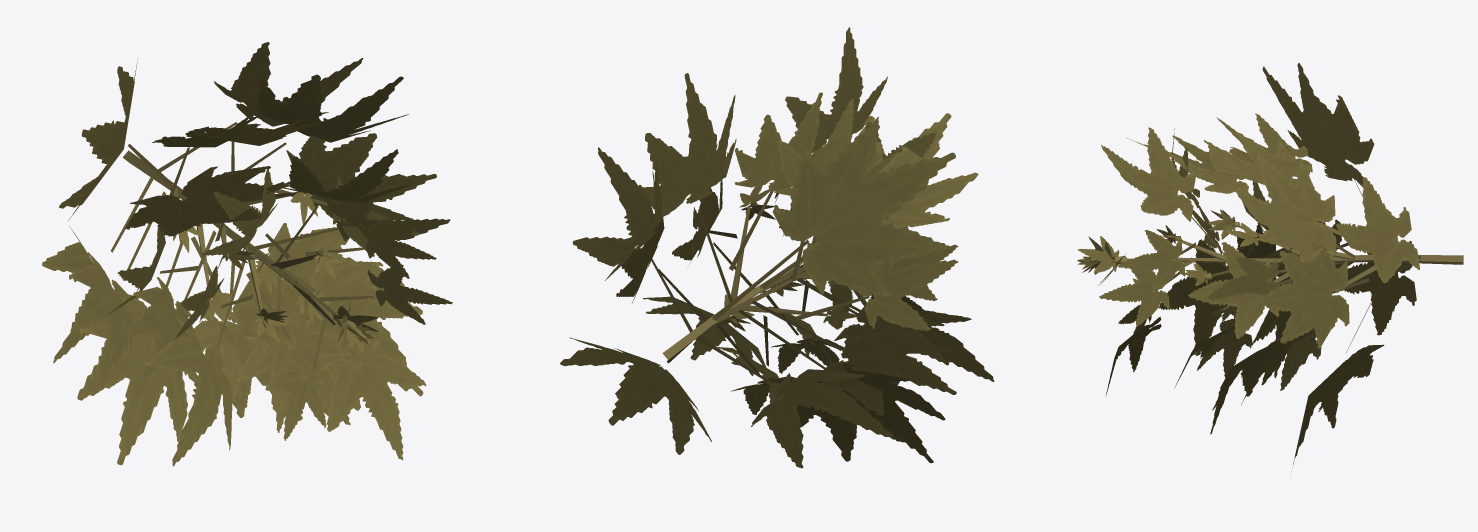
The model's file is p_hybrid_preflower_c2_cards.obj.
The picture shows the model from 3 angles, left to right: view 1: azimuth 30°, elevation 25°; view 2: azimuth 150°, elevation 25°; view 3: azimuth 270°, elevation 25°; orthographic projection. The views are drawn at different scales.
Bounding box in the file's own units: 1.34 × 1.3 × 1.16.
1 material, 1 textured.
